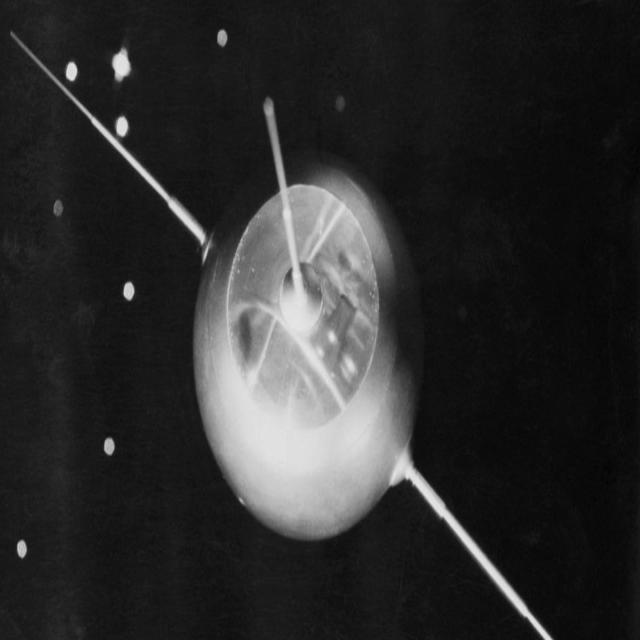satellite: (2, 0, 564, 639)
